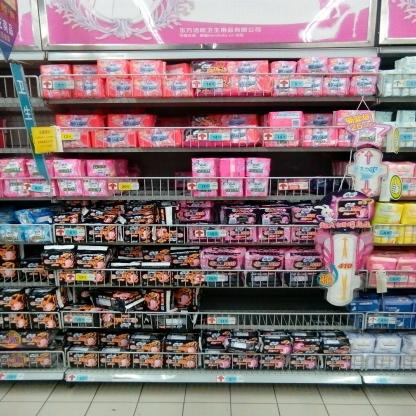empty_space: (200, 291, 245, 325), (280, 293, 322, 324), (139, 154, 170, 195), (252, 291, 273, 324), (326, 310, 343, 323)
